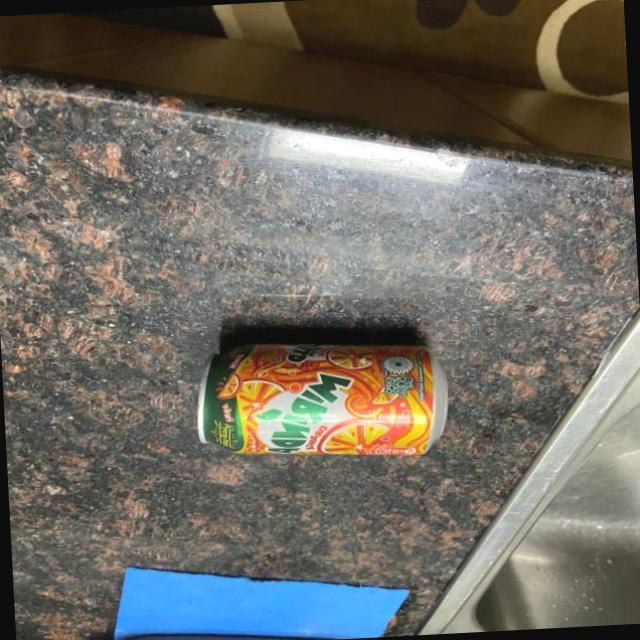can: (188, 331, 455, 468)
